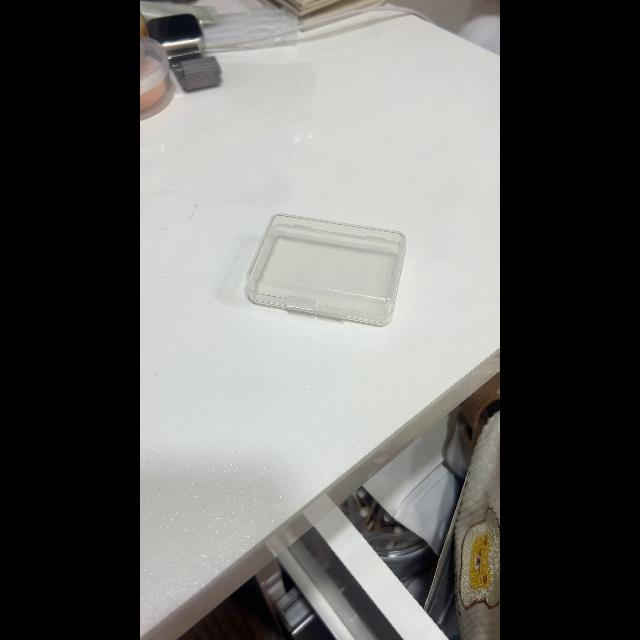clean: (244, 212, 406, 326)
